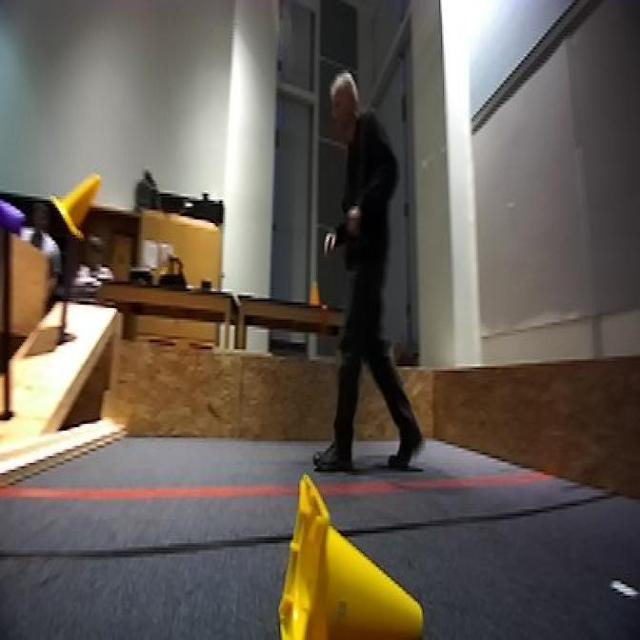frc_cone: (268, 463, 430, 640), (49, 170, 104, 243)
frc_cube: (0, 196, 24, 247)
